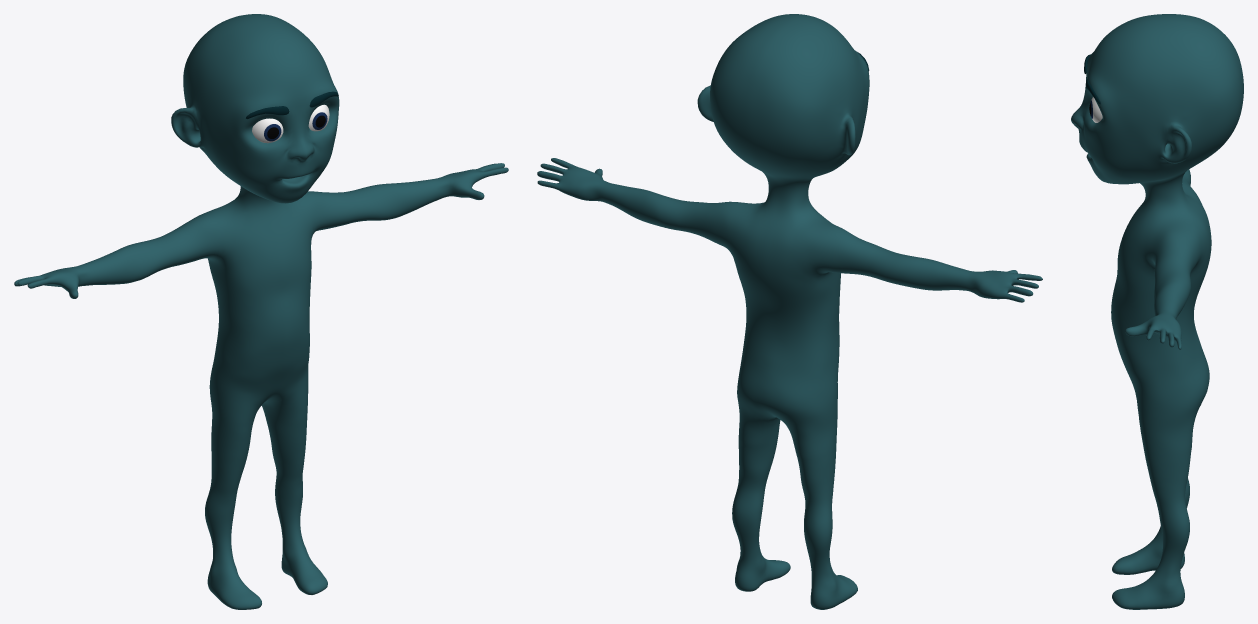
The model's file is SmallKid_Blue_005.OBJ.
The picture shows the model from 3 angles, left to right: view 1: azimuth 30°, elevation 25°; view 2: azimuth 150°, elevation 25°; view 3: azimuth 270°, elevation 25°; orthographic projection. The views are drawn at different scales.
Parts seen in each view (by area): view 1: Geometry Body_Base_geo; view 2: Geometry Body_Base_geo; view 3: Geometry Body_Base_geo.
Part boxes in pixels (box(x1,y1,x2,y2)): Geometry Body_Base_geo: box(14, 14, 508, 609); Geometry Body_Base_geo: box(537, 14, 1042, 609); Geometry Body_Base_geo: box(1071, 14, 1243, 609).
Size of the model in its own units: 40.94 by 45.17 by 12.46.
